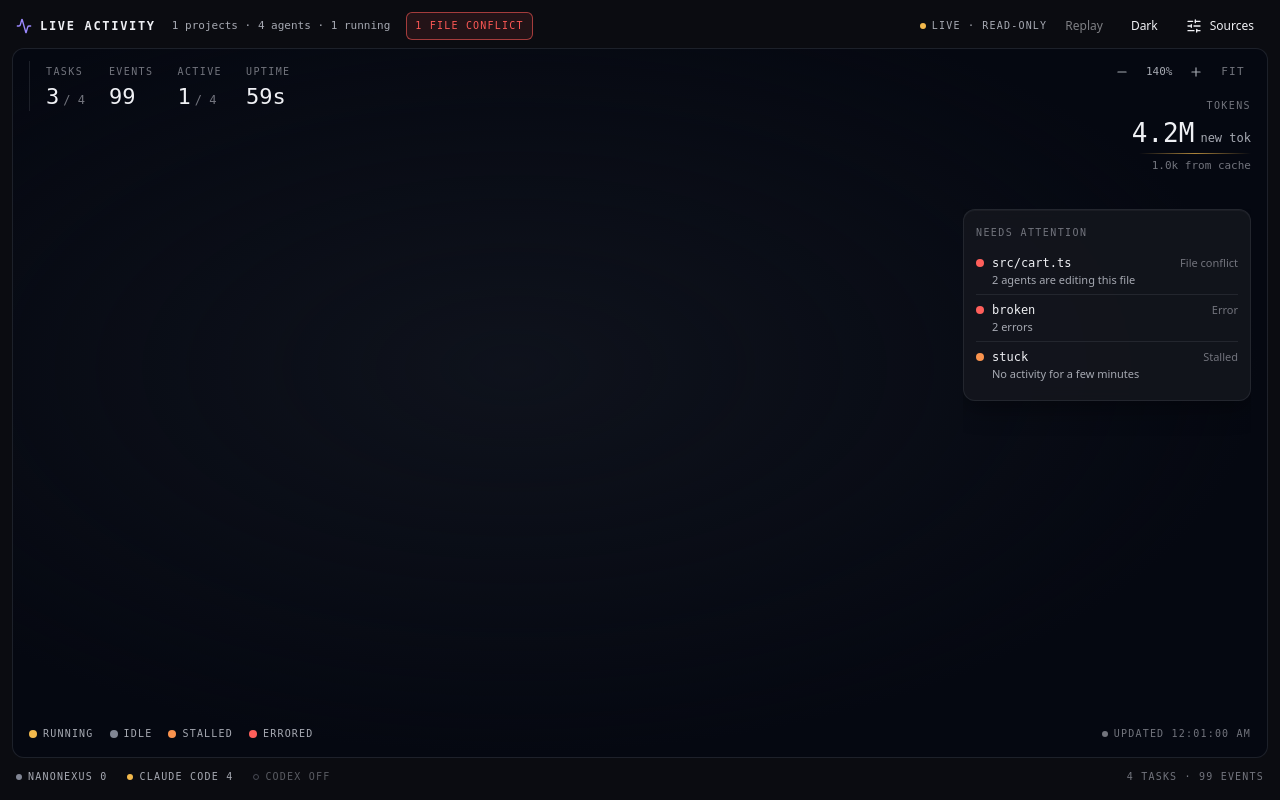
Scenario: shows the headline numbers, the conflict chip and what needs attention
Expected: the text "1 projects · 4 agents · 1 running" is shown, [172, 18, 390, 34]
Expected: the text "4.2M" is shown, [1132, 118, 1194, 148]
Click the button "broken Error 2 errors" at [1014, 310], box [976, 295, 1238, 341]
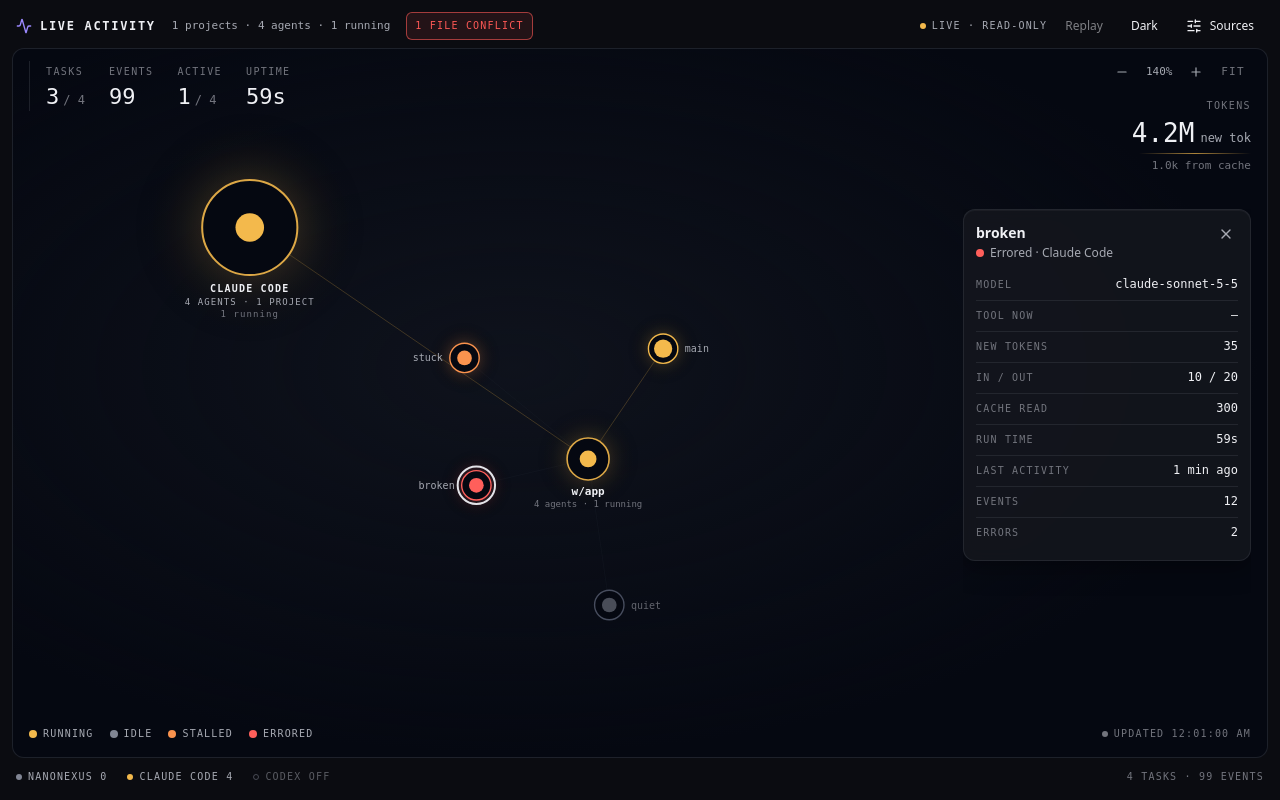
Now the element named "Agent details" shows "claude-sonnet-5-5", box [1115, 277, 1238, 291]
